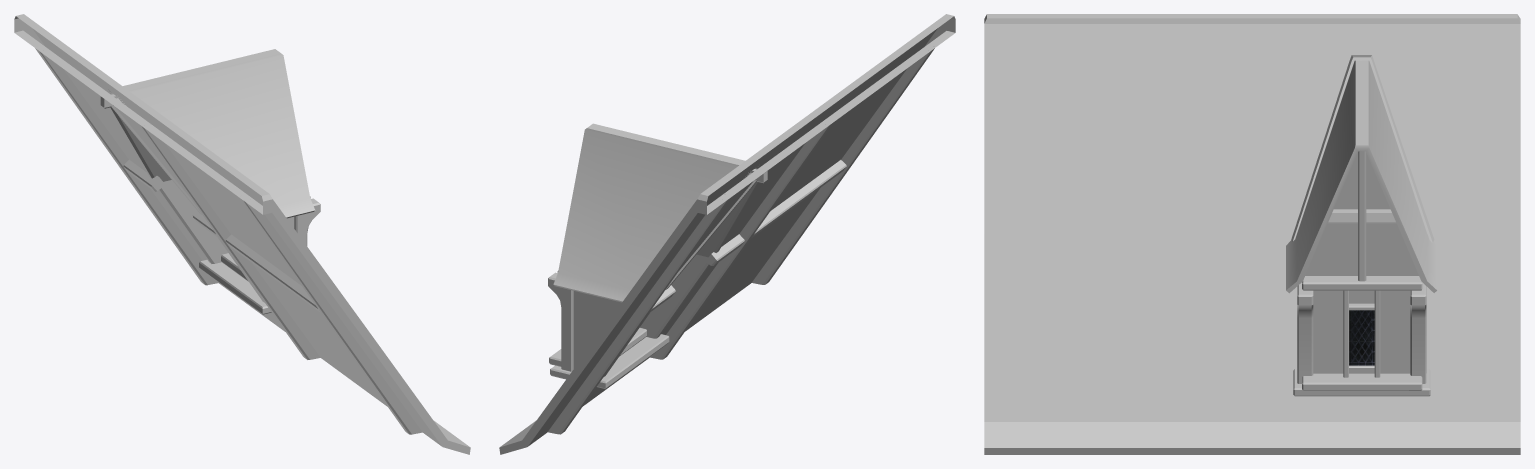
File: Roof_OneWin_02.FBX
The picture shows the model from 3 angles, left to right: view 1: azimuth 30°, elevation 25°; view 2: azimuth 150°, elevation 25°; view 3: azimuth 270°, elevation 25°; orthographic projection. The views are drawn at different scales.
Parts seen in each view (by area): view 1: Roof_OneWin_02; view 2: Roof_OneWin_02; view 3: Roof_OneWin_02.
Boxes of the visible parts, bbox=[...] form: Roof_OneWin_02: bbox=[14, 14, 470, 454]; Roof_OneWin_02: bbox=[499, 14, 955, 454]; Roof_OneWin_02: bbox=[984, 14, 1520, 454].
Size of the model in its own units: 167 by 237 by 347.
